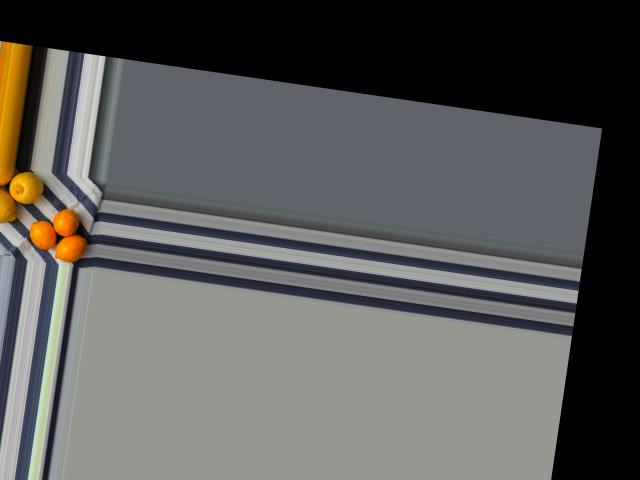lemon: (53, 232, 88, 264)
